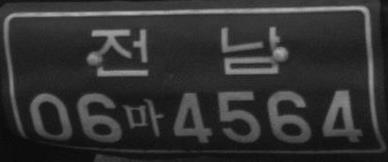0: (27, 91, 73, 140)
4: (321, 89, 363, 143), (172, 92, 212, 142)
5: (216, 90, 262, 144)
6: (265, 89, 313, 143), (75, 91, 122, 144)
마: (123, 97, 164, 137)
전남_D: (91, 24, 281, 77)
